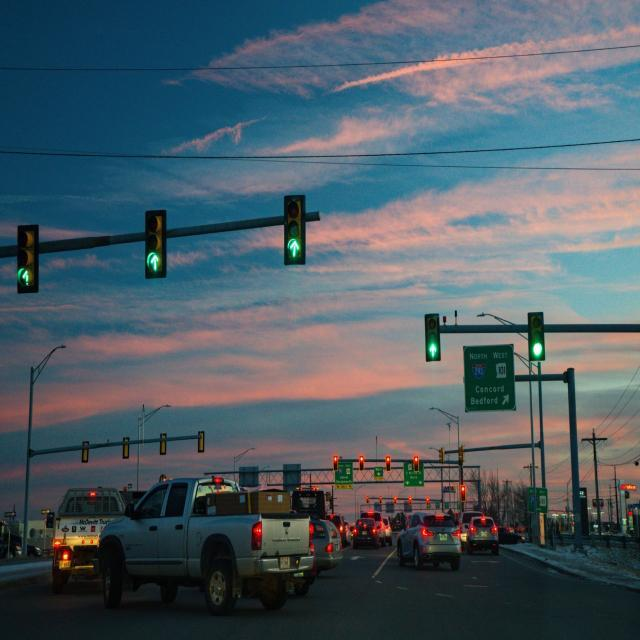person: (95, 472, 317, 615)
suv: (16, 224, 39, 294), (144, 209, 167, 278), (284, 194, 306, 265), (528, 312, 546, 362), (424, 312, 442, 361), (424, 314, 440, 362), (438, 446, 444, 464), (413, 455, 419, 472), (460, 484, 465, 502), (459, 445, 464, 463), (359, 454, 364, 470), (333, 454, 338, 470), (386, 455, 390, 471), (426, 496, 430, 508), (408, 496, 412, 504), (379, 496, 382, 504)
